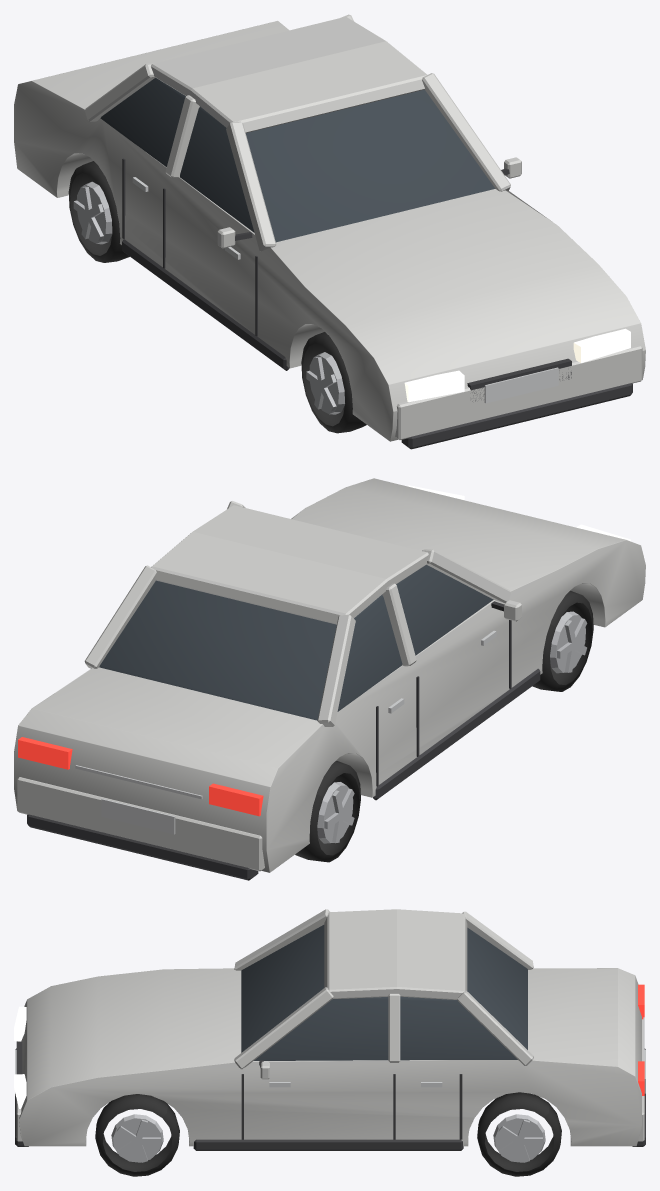
File: car-white.glb
3 views of the same model, one above another, from view 1: azimuth 30°, elevation 25°; view 2: azimuth 150°, elevation 25°; view 3: azimuth 270°, elevation 25° (orthographic). The views are drawn at different scales.
Visible parts, largest first — view 1: car-white; view 2: car-white; view 3: car-white.
Boxes of the visible parts, x1,y1,x2,y2 form: car-white: (14,14,645,449); car-white: (14,478,645,880); car-white: (14,909,645,1176).
Size of the model in its own units: 2.14 by 1.5 by 4.75.
